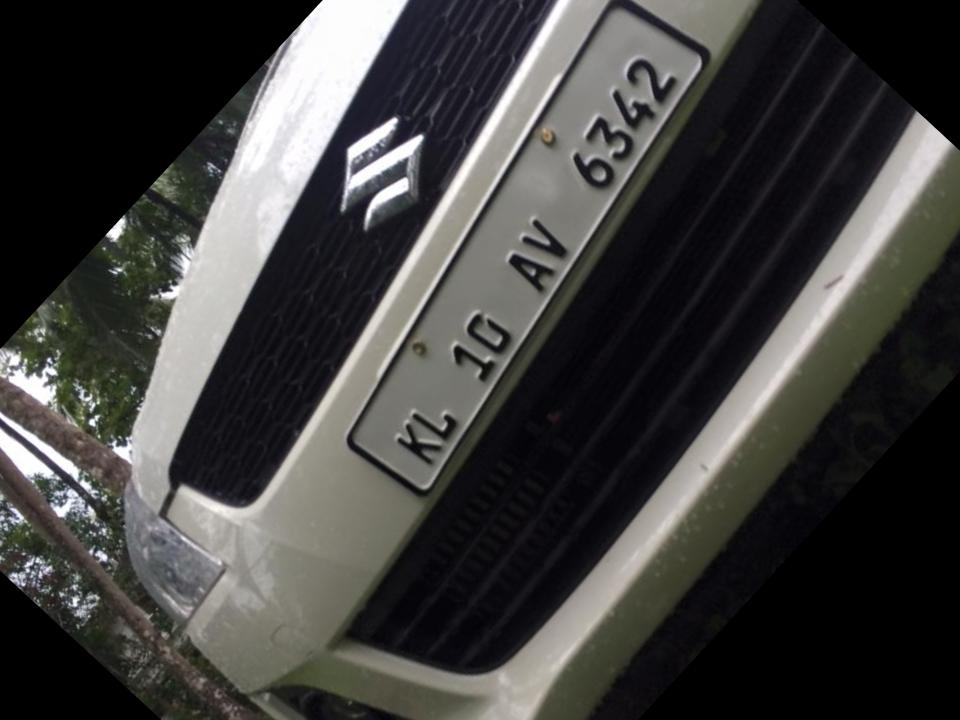plate: (309, 13, 774, 503)
